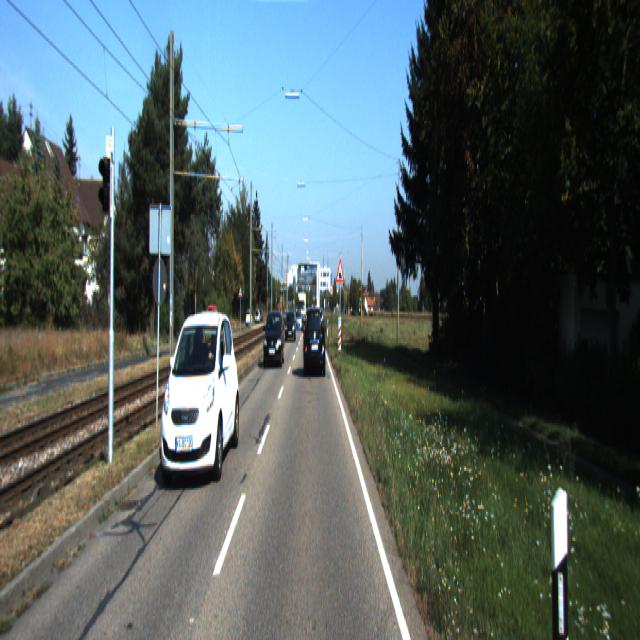Car: (159, 309, 242, 490), (304, 306, 326, 380), (264, 307, 285, 367), (205, 304, 219, 336), (284, 308, 296, 341)
